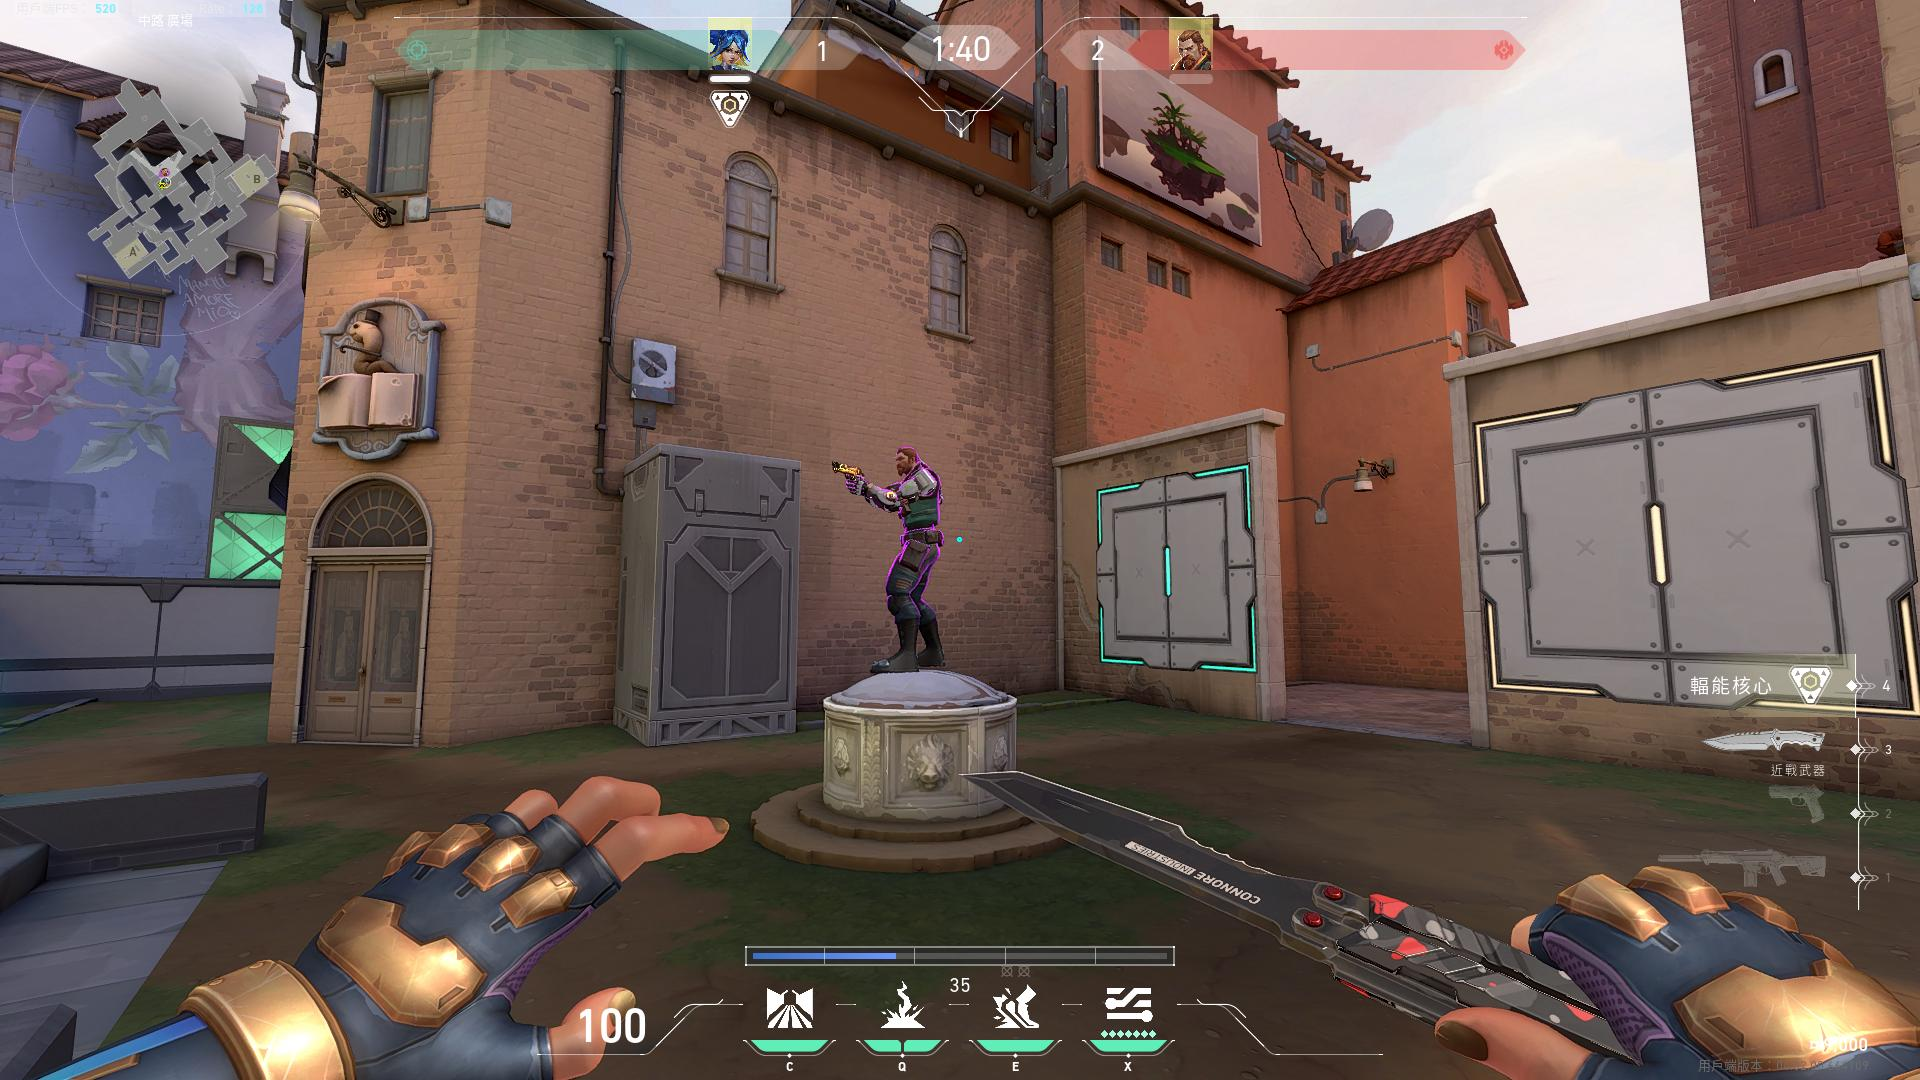enemyBody: (891, 479, 945, 545)
enemyHead: (898, 454, 922, 472)
